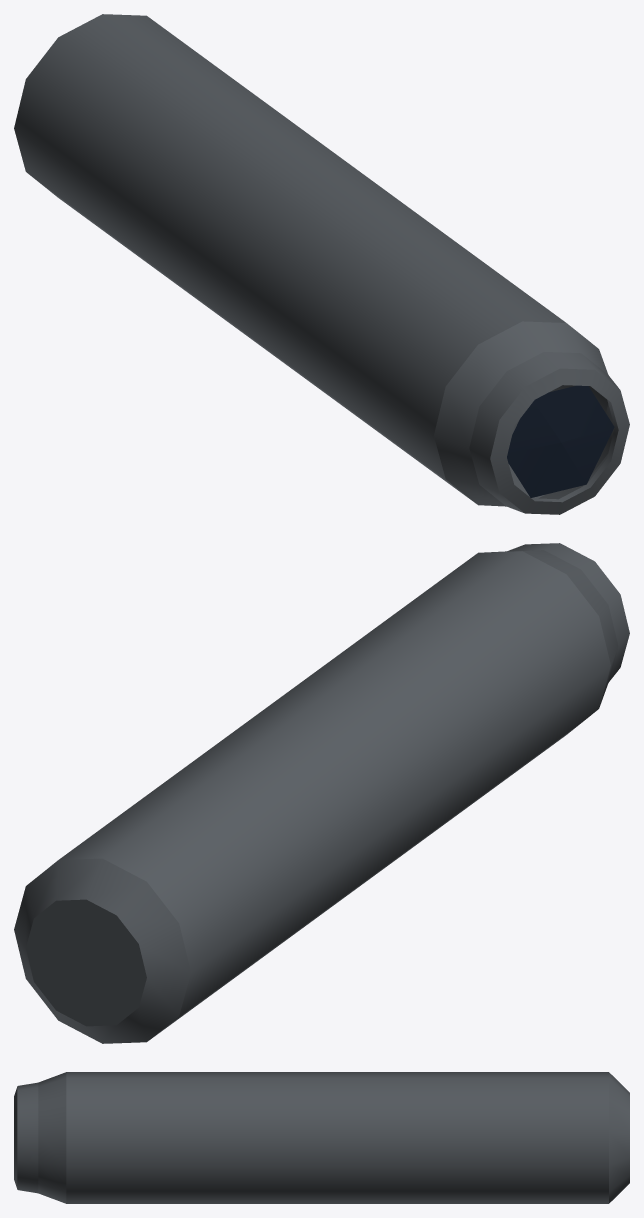
The model's file is pd1_emitter.obj.
3 renders of one model, top to bottom at view 1: azimuth 30°, elevation 25°; view 2: azimuth 150°, elevation 25°; view 3: azimuth 270°, elevation 25°, orthographic. The views are drawn at different scales.
Parts seen in each view (by area): view 1: pd1_emitter; view 2: pd1_emitter; view 3: pd1_emitter.
Boxes of the visible parts, x1,y1,x2,y2 form: pd1_emitter: (14,14,629,514); pd1_emitter: (14,543,629,1043); pd1_emitter: (14,1072,629,1203).
Size of the model in its own units: 0.38 by 0.38 by 1.77.
